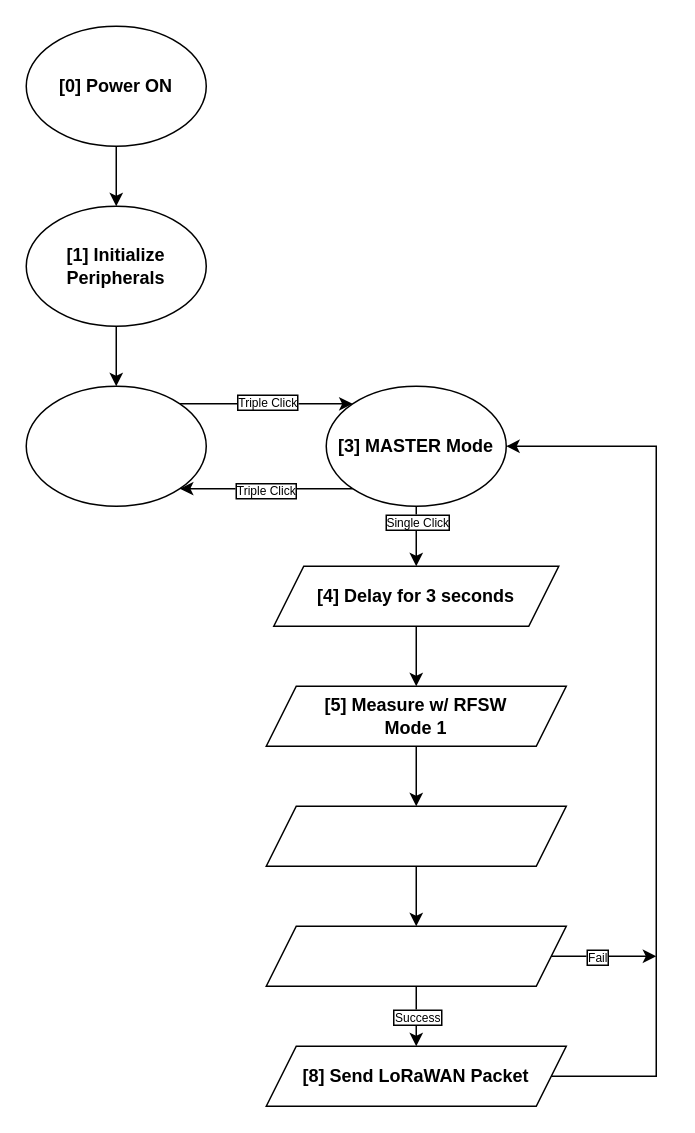
Image size: 695x1133. Some labels were removed from this diagram. The shapes that lost their labels are listed below. From the top down, each one's box as (x1, y1, x2, y2) in pixels, then its label:
(25, 385, 206, 506): [2] SLAVE Mode
(265, 805, 566, 866): [6] Measure w/ RFSW Mode 2
(265, 925, 566, 986): [7] Validate measuring results
